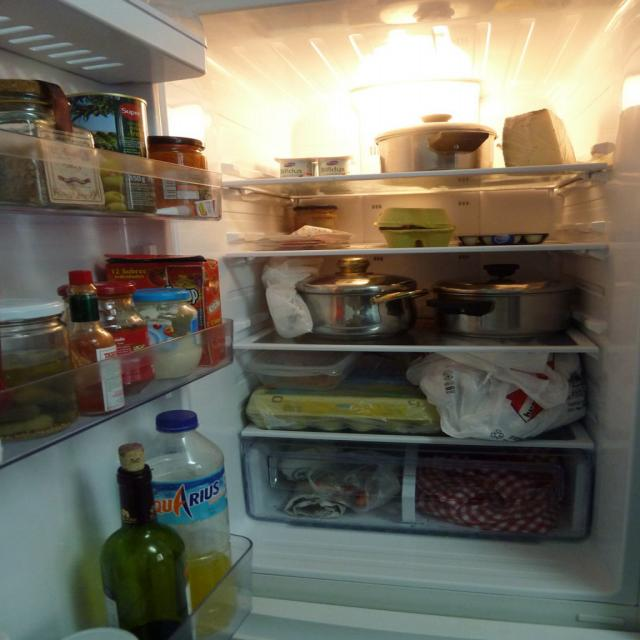Flask: (129, 420, 242, 597)
refrigerator: (83, 3, 625, 640)
